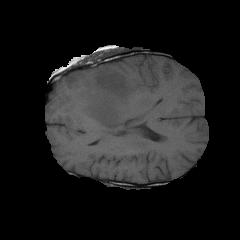glioma: (65, 66, 135, 133)
